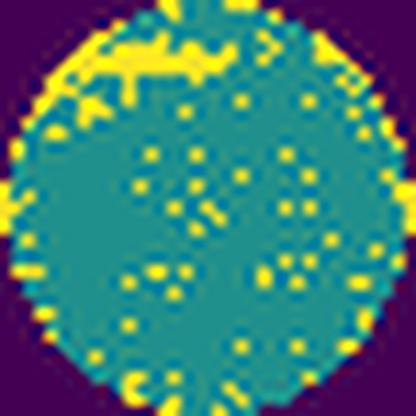Loc: (21, 26, 241, 132)
